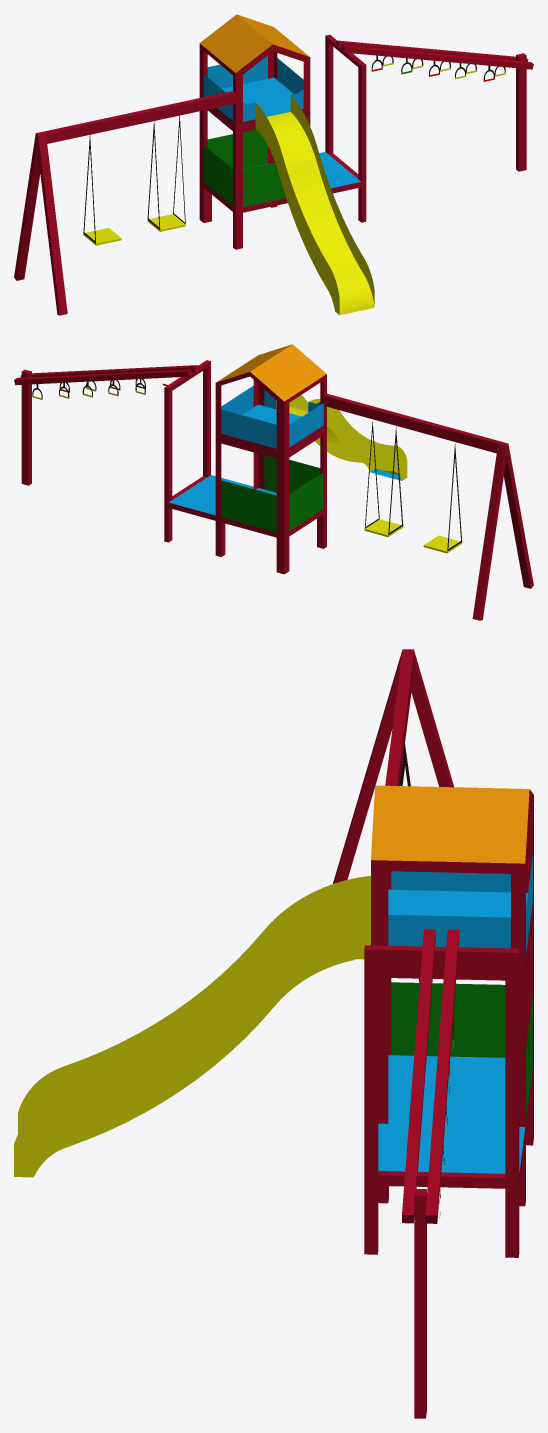
Rendered from Playground_fbx.fbx.
3 views of the same model, one above another, from view 1: azimuth 30°, elevation 25°; view 2: azimuth 150°, elevation 25°; view 3: azimuth 270°, elevation 25° (orthographic). The views are drawn at different scales.
Visible parts, largest first — view 1: Playgound; view 2: Playgound; view 3: Playgound.
Part boxes in pixels (bbox=[...]): Playgound: bbox=[14, 14, 533, 315]; Playgound: bbox=[14, 344, 533, 620]; Playgound: bbox=[14, 649, 533, 1418].
Bounding box in the file's own units: 81.72 × 32 × 38.03.
